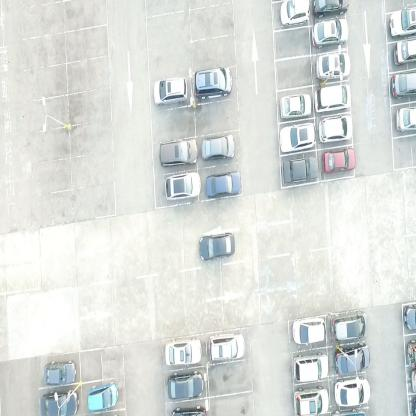car: (194, 66, 232, 101), (158, 138, 198, 170), (293, 350, 330, 384), (330, 310, 367, 342), (279, 122, 316, 154), (164, 336, 202, 367), (313, 84, 351, 115), (199, 231, 236, 262), (333, 344, 371, 374), (41, 386, 79, 416), (209, 330, 244, 362), (293, 386, 330, 416), (311, 18, 348, 48), (281, 156, 319, 185), (204, 170, 242, 199), (314, 51, 350, 81), (164, 171, 200, 201), (167, 371, 204, 400), (87, 378, 118, 412), (317, 115, 353, 144), (333, 378, 371, 405), (292, 314, 326, 344), (154, 77, 188, 107), (201, 135, 235, 163), (321, 149, 356, 175), (44, 358, 76, 386), (388, 7, 416, 38), (279, 92, 311, 119), (280, 0, 310, 27), (312, 0, 351, 19), (392, 70, 416, 100), (392, 38, 416, 65), (396, 104, 416, 134), (405, 302, 415, 332), (406, 337, 415, 368)
